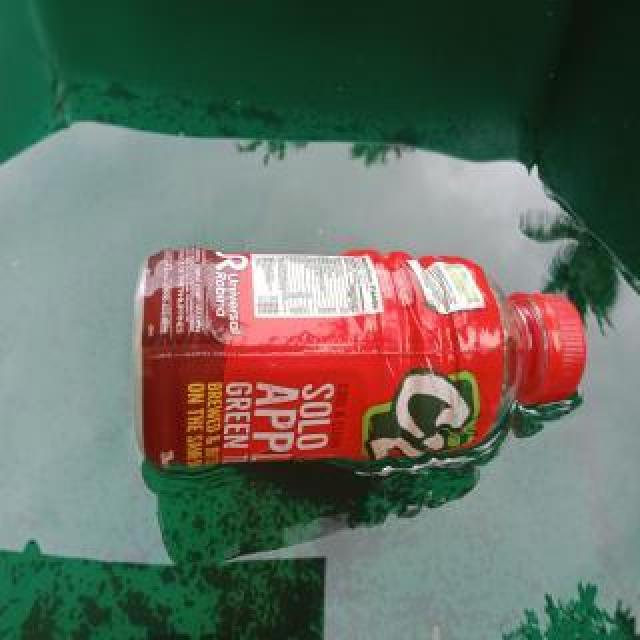bottle: (136, 242, 594, 472)
